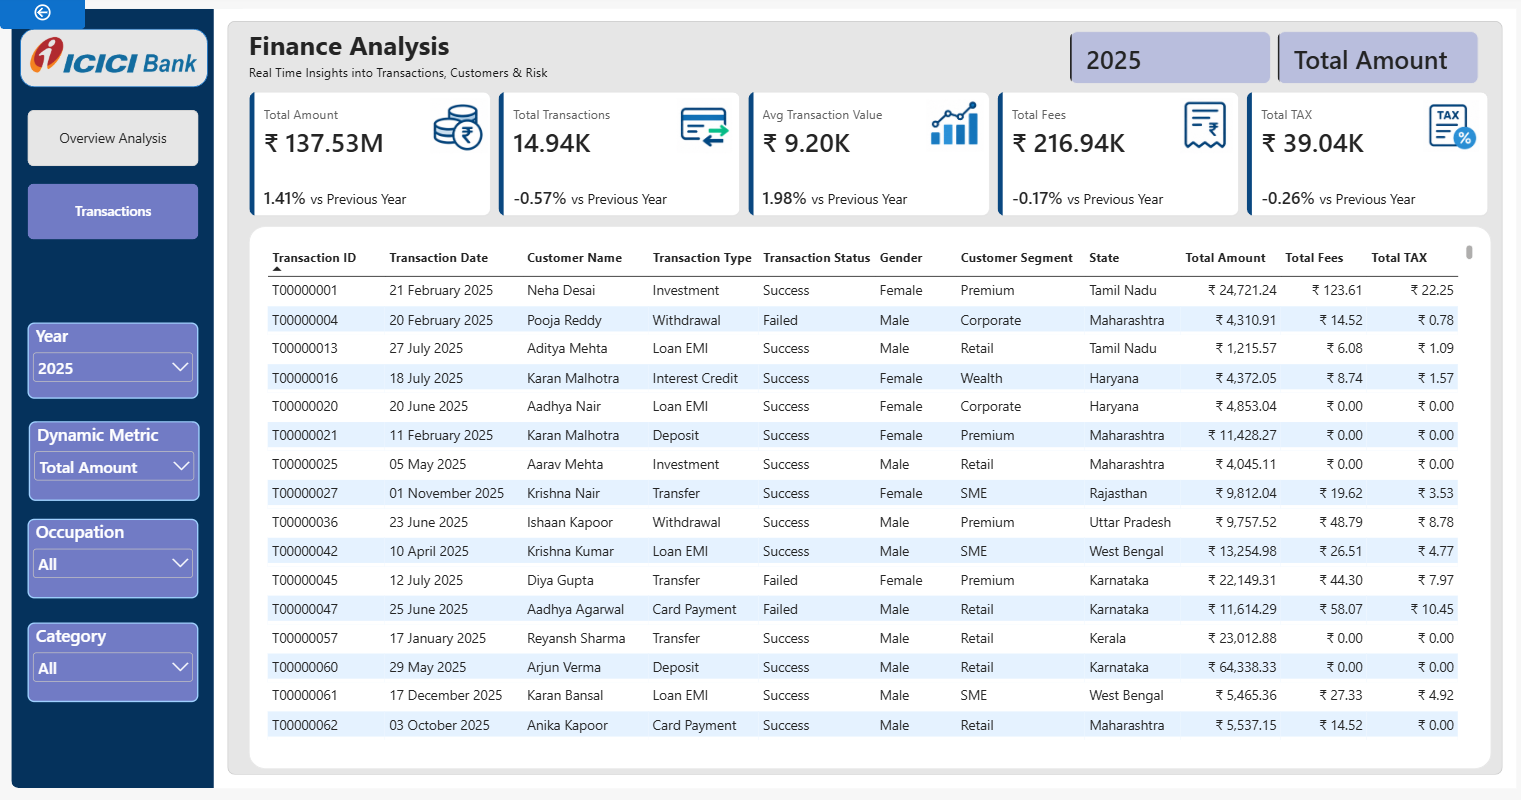

The dashboard page shown, as its layout file describes it:
{"tool":"powerbi","page":{"name":"Transactions","canvas":[1800,950],"ordinal":1},"visuals":[{"type":"shape","box":[13.1,16.4,279.6,915.7],"z":0},{"type":"shape","box":[251.8,16.4,1530.5,915.7],"z":1000},{"type":"shape","box":[22.9,39.2,220.7,68.7],"z":2000},{"type":"image","box":[18,34.3,230.6,78.5],"z":3000},{"type":"cardVisual","fields":{"Data":["finance_transactions.DAshboard Title"]},"box":[292.7,29.4,390.8,78.5],"z":4000},{"type":"cardVisual","fields":{"Data":["finance_transactions.Total Amount","finance_transactions.Total Transactions","finance_transactions.Avg Transaction Value","finance_transactions.Total Fees","finance_transactions.Total TAX"]},"box":[292.7,112.8,1460.2,147.2],"z":5000},{"type":"image","box":[505.3,122.6,68.7,63.8],"z":7000},{"type":"image","box":[793.1,122.6,68.7,63.8],"z":8000},{"type":"image","box":[1089,122.6,67,63.8],"z":9000},{"type":"image","box":[1386.6,122.6,62.1,63.8],"z":10000},{"type":"image","box":[1672.8,122.6,65.4,63.8],"z":11000},{"type":"cardVisual","fields":{"Data":["finance_transactions.Selected Year","finance_transactions.Selected Dynamic Measure 1"]},"box":[1257.5,42.5,480.7,62.1],"z":13000},{"type":"shape","box":[292.7,271.4,1460.2,637.7],"z":14000},{"type":"tableEx","fields":{"Values":["finance_transactions.transaction_id","finance_transactions.transaction_date","customers.customer_name","finance_transactions.transaction_type","finance_transactions.transaction_status","customers.gender","customers.customer_segment","customers.state","finance_transactions.Total Amount","finance_transactions.Total Fees","finance_transactions.Total TAX"]},"box":[297.6,279.6,1448.8,616.5],"z":15000},{"type":"actionButton","box":[0,0,100,40],"z":16000},{"type":"slicer","fields":{"Values":["Calander Table.Year"]},"box":[32.7,384.3,201.1,89.9],"z":16001},{"type":"slicer","fields":{"Values":["Dynamic Metric.Dynamic Metric"]},"box":[34.3,500.4,201.1,93.2],"z":16002},{"type":"slicer","fields":{"Values":["customers.occupation"]},"box":[32.7,614.8,201.1,93.2],"z":16003},{"type":"slicer","fields":{"Values":["finance_transactions.merchant_category"]},"box":[32.7,737.5,201.1,93.2],"z":16004},{"type":"pageNavigator","box":[32.7,135.7,201.1,153.7],"z":16005}]}

Visuals, with their boxes on the page's 1800x950 design canvas (x1, y1, x2, y2). These are canvas units, not pixel positions in the 1521x800 screenshot, which may show the page scaled, cropped or inside an application window:
shape: rect(13, 16, 293, 932)
shape: rect(252, 16, 1782, 932)
shape: rect(23, 39, 244, 108)
image: rect(18, 34, 249, 113)
cardVisual - finance_transactions.DAshboard Title: rect(293, 29, 684, 108)
cardVisual - finance_transactions.Total Amount x finance_transactions.Total Transactions: rect(293, 113, 1753, 260)
image: rect(505, 123, 574, 186)
image: rect(793, 123, 862, 186)
image: rect(1089, 123, 1156, 186)
image: rect(1387, 123, 1449, 186)
image: rect(1673, 123, 1738, 186)
cardVisual - finance_transactions.Selected Year x finance_transactions.Selected Dynamic Measure 1: rect(1258, 42, 1738, 105)
shape: rect(293, 271, 1753, 909)
tableEx - finance_transactions.transaction_id x finance_transactions.transaction_date: rect(298, 280, 1746, 896)
actionButton: rect(0, 0, 100, 40)
slicer - Calander Table.Year: rect(33, 384, 234, 474)
slicer - Dynamic Metric.Dynamic Metric: rect(34, 500, 235, 594)
slicer - customers.occupation: rect(33, 615, 234, 708)
slicer - finance_transactions.merchant_category: rect(33, 738, 234, 831)
pageNavigator: rect(33, 136, 234, 289)
